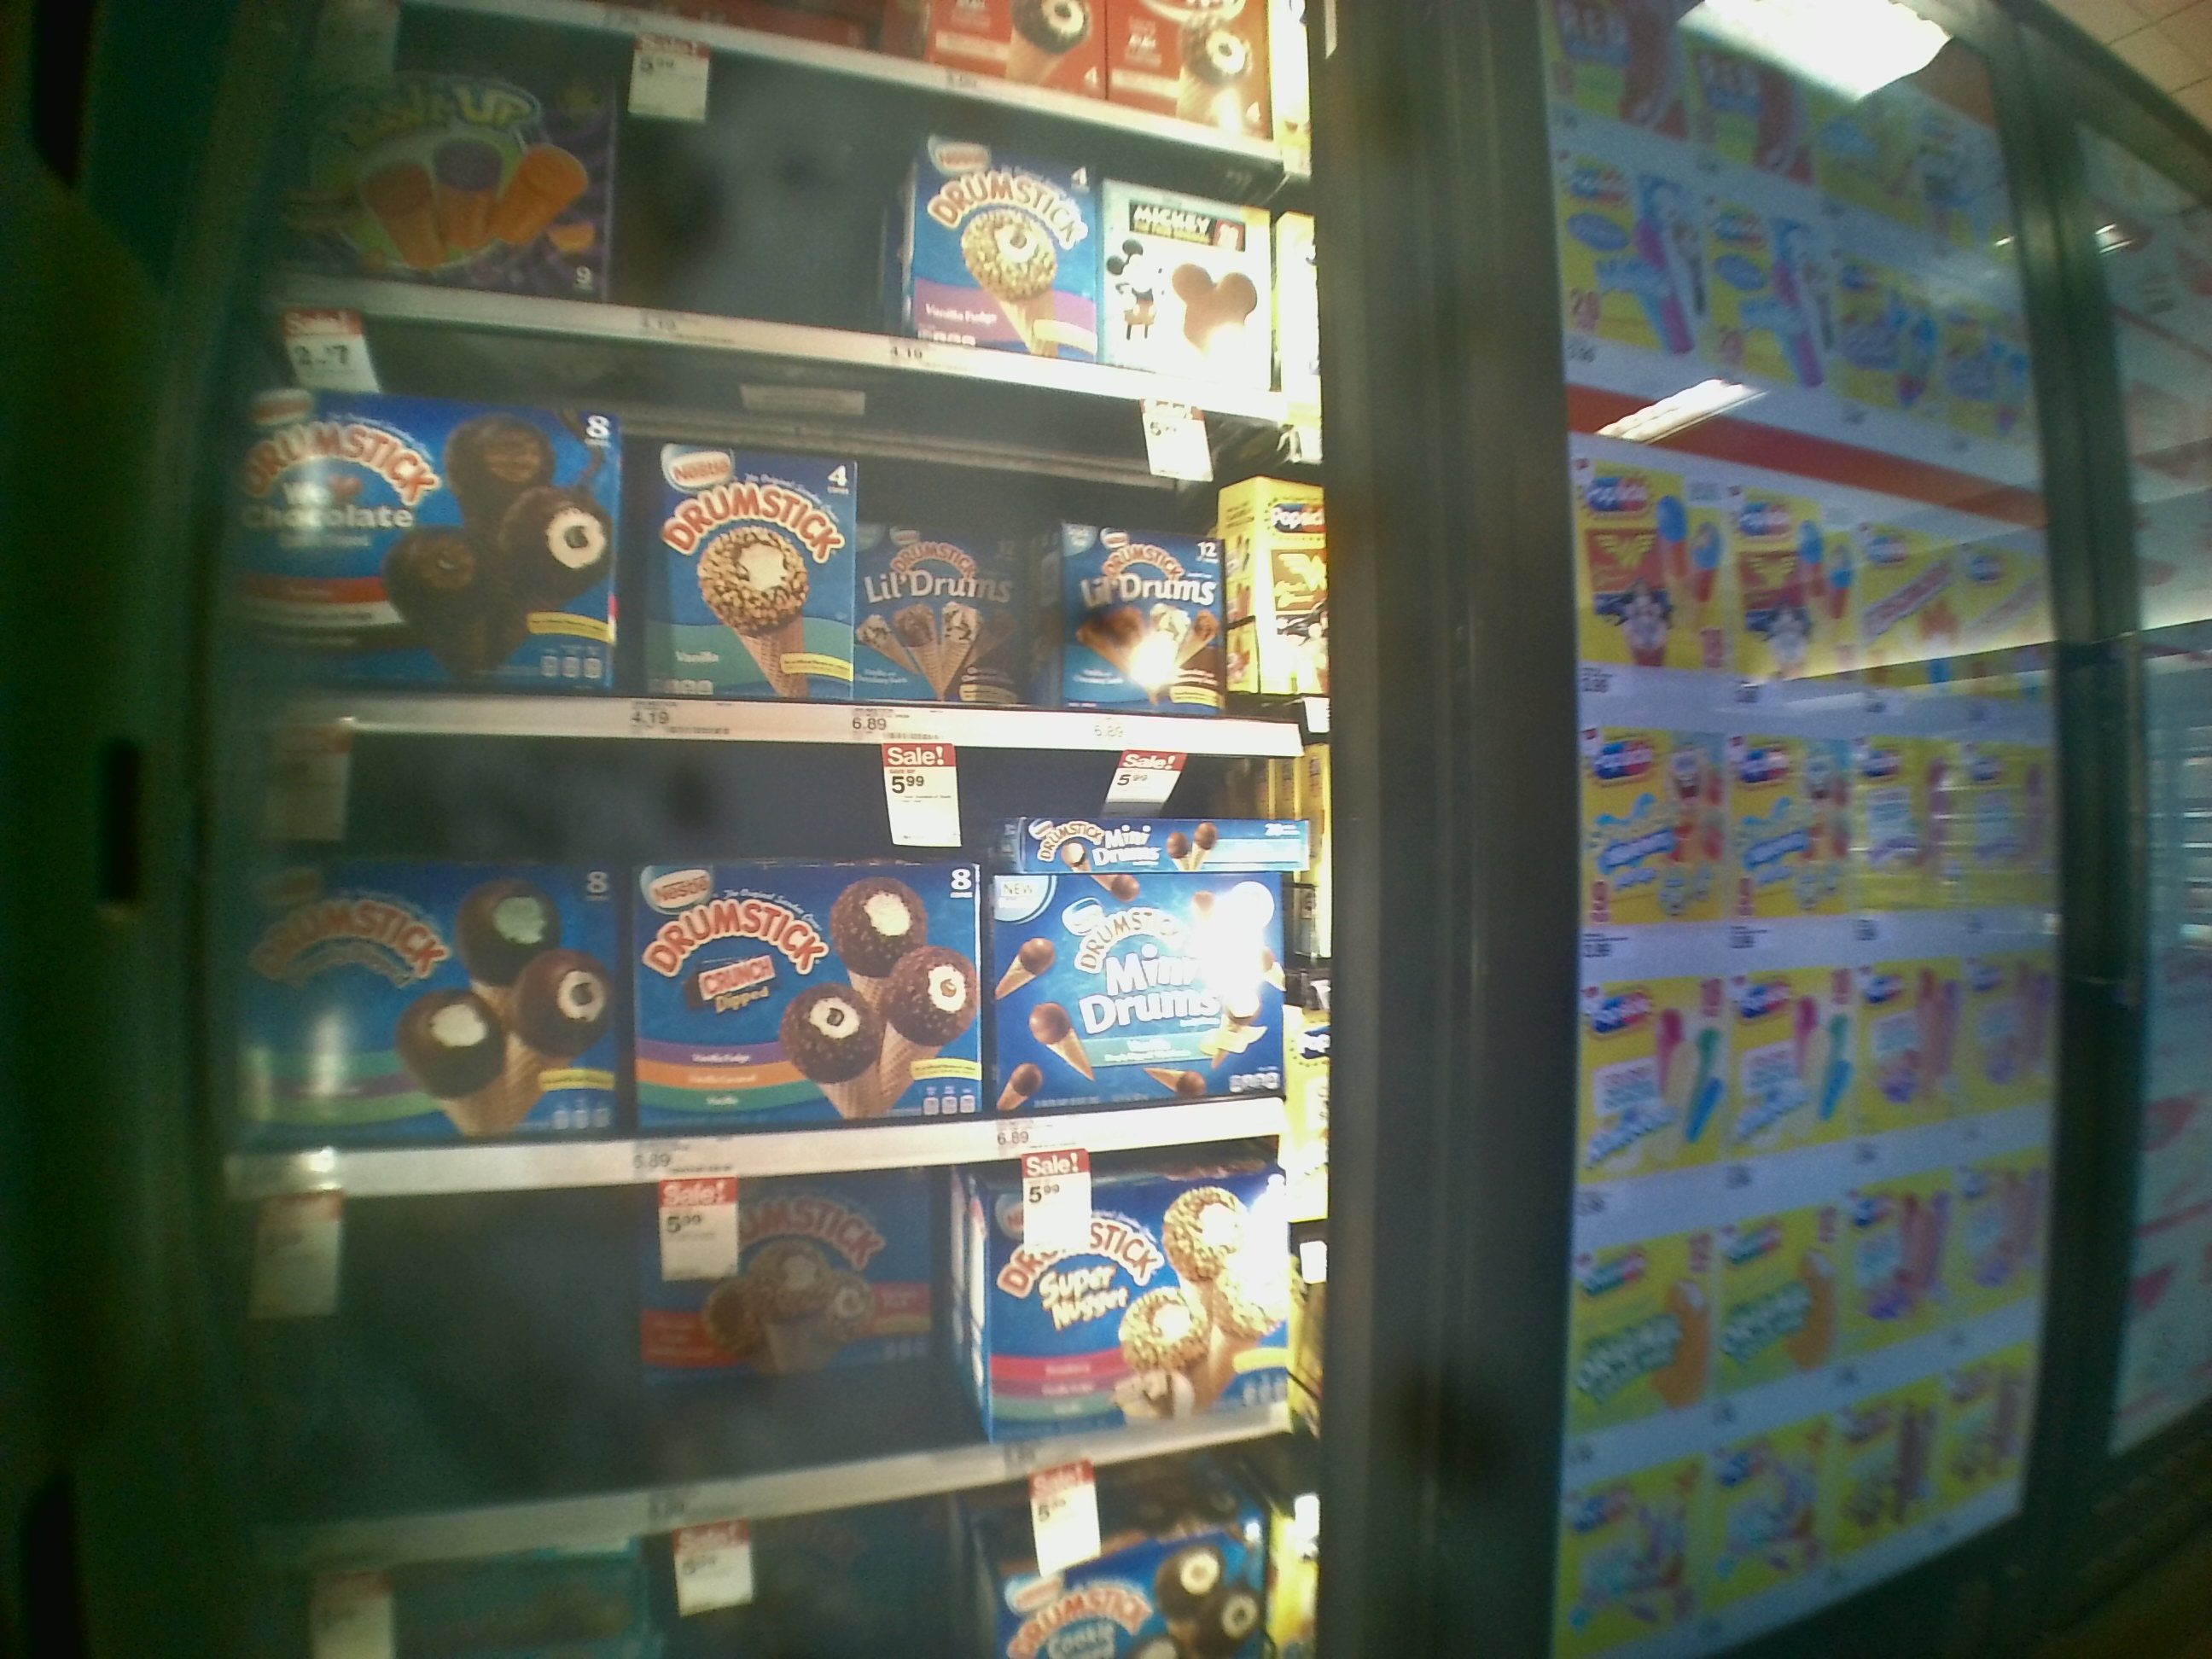shelf: (216, 737, 1331, 1199), (223, 1129, 1338, 1577), (221, 317, 1338, 742)
